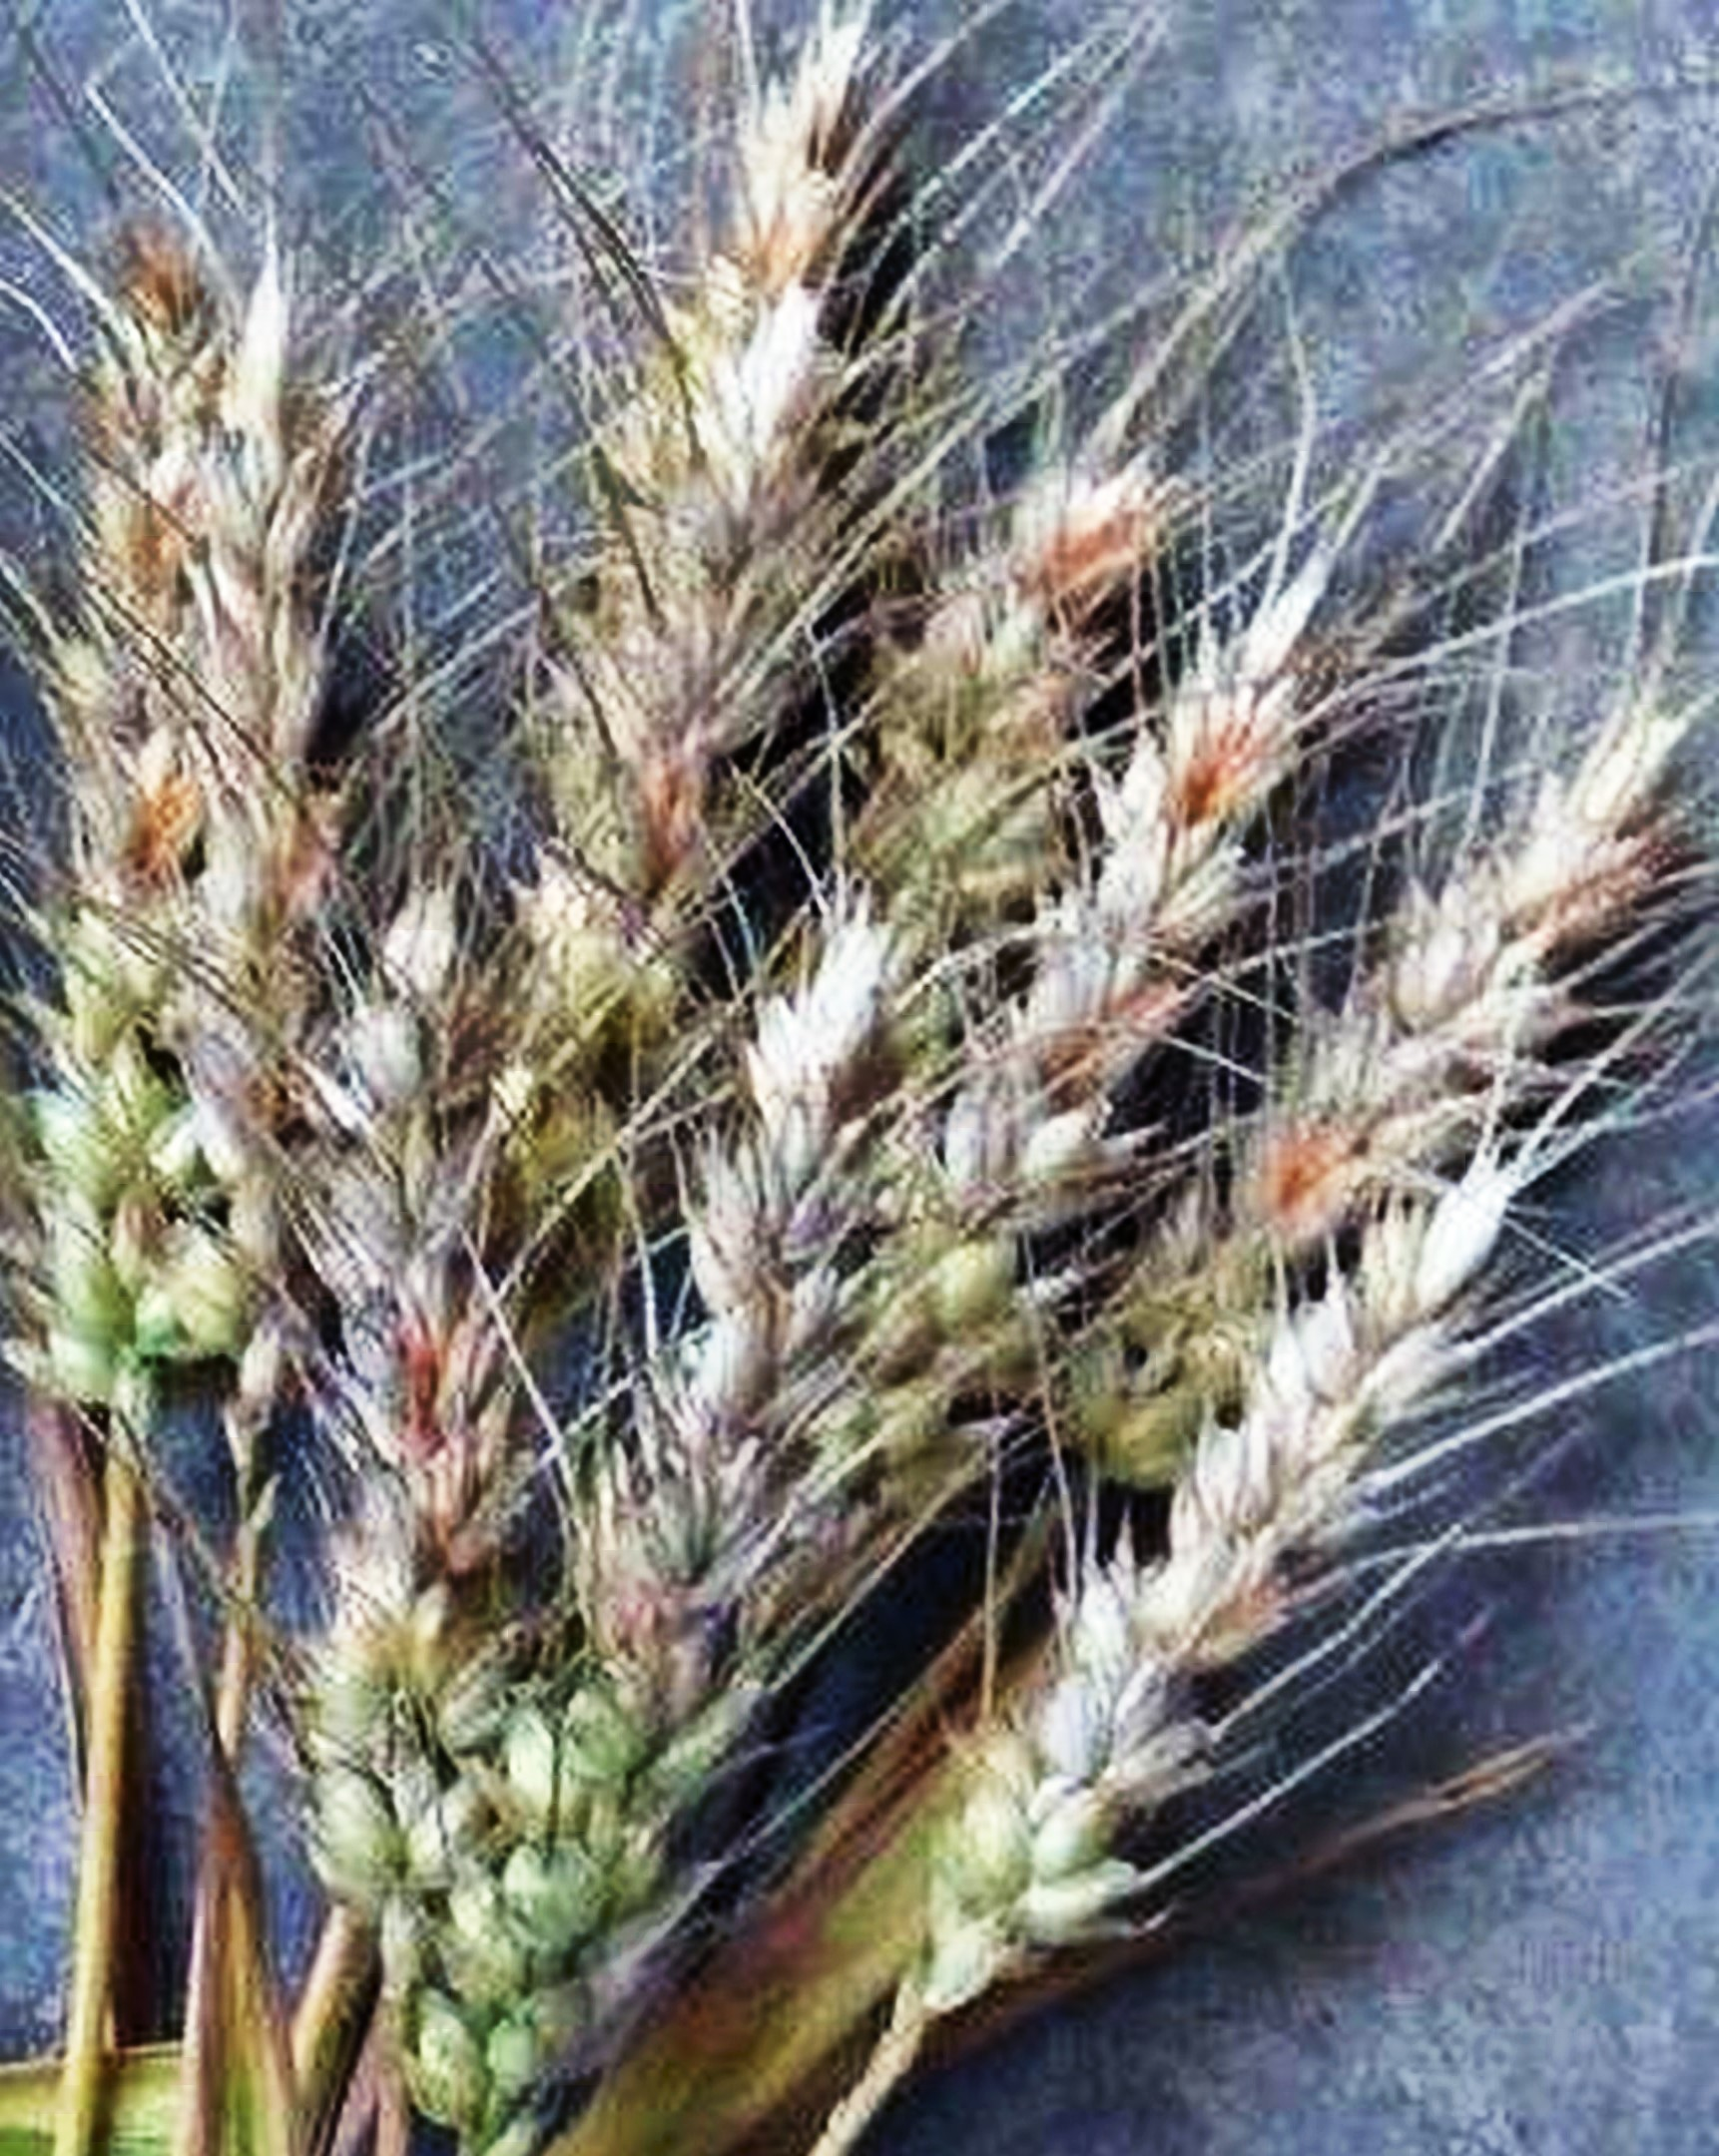Wheat scab: (909, 1200, 1559, 2002), (51, 189, 291, 1467)
